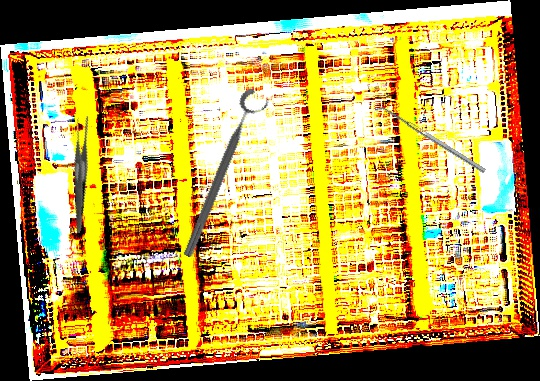Dressing Forceps: (40, 113, 119, 234)
Fixation Ring: (178, 86, 273, 264)
Spatula Surgical: (373, 102, 487, 178)
